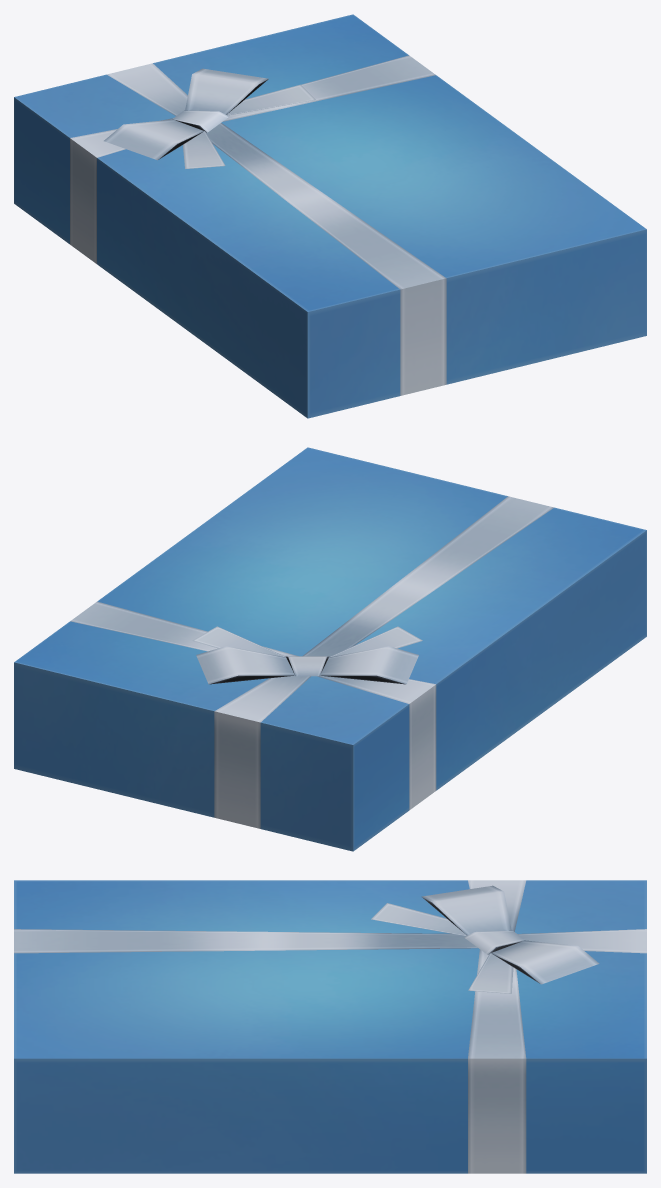
File: set_gift_02.fbx
3 renders of one model, top to bottom at view 1: azimuth 30°, elevation 25°; view 2: azimuth 150°, elevation 25°; view 3: azimuth 270°, elevation 25°, orthographic. The views are drawn at different scales.
Parts seen in each view (by area): view 1: set_gift_02; view 2: set_gift_02; view 3: set_gift_02.
Part boxes in pixels (box(x1,y1,x2,y2)): set_gift_02: box(14, 14, 646, 418); set_gift_02: box(14, 447, 646, 851); set_gift_02: box(14, 880, 646, 1173).
Bounding box in the file's own units: 10 × 3.3 × 15.
